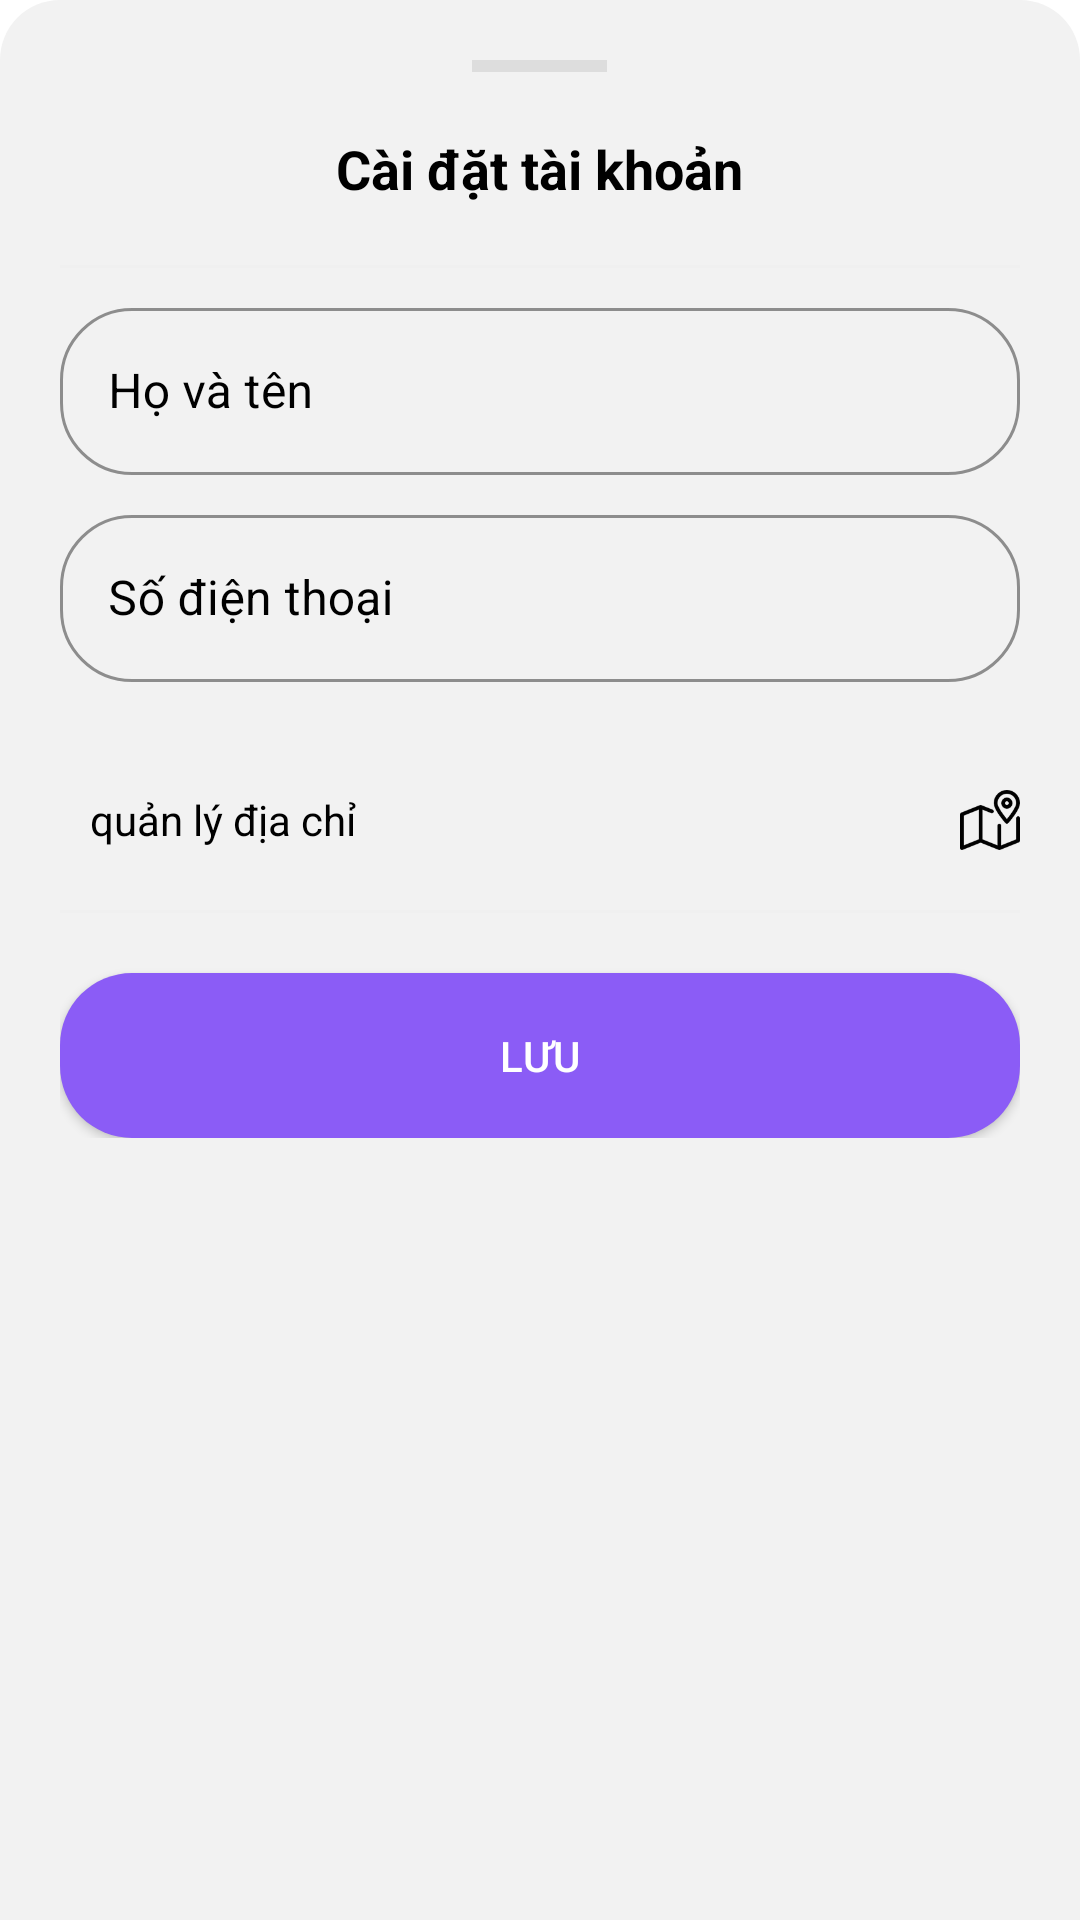

Named icons in this screenshot (1080px x 1920px) and their bounding boxes, (x1, y1, x2, y2):
dia chi: (960, 790, 1020, 850)
